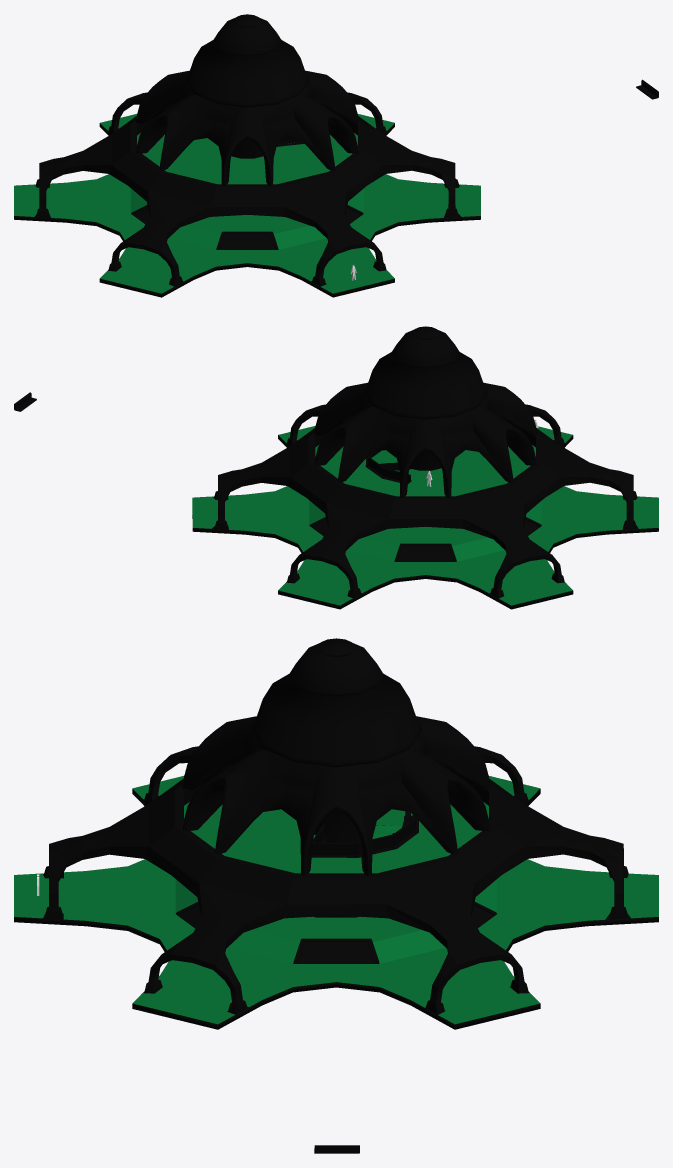
File: tr_agora_collision.max.fobj.obj
3 renders of one model, top to bottom at view 1: azimuth 30°, elevation 25°; view 2: azimuth 150°, elevation 25°; view 3: azimuth 270°, elevation 25°, orthographic. The views are drawn at different scales.
Parts seen in each view (by area): view 1: col_tryk_agora, FBXASC049stFBXASC032floor, top01, arcext10, arcext11, Box02, Box07, arcext12, star, Box06, Box03, arcext15 (+4 smaller); view 2: col_tryk_agora, FBXASC049stFBXASC032floor, top01, arcext14, arcext15, Box05, Box06, arcext10, star, Box07, Box04, arcext13 (+4 smaller); view 3: col_tryk_agora, FBXASC049stFBXASC032floor, top01, arcext12, arcext13, Box04, Box03, arcext14, star, Box02, Box05, arcext11 (+5 smaller).
Part boxes in pixels (x1,y1,x2,y2): col_tryk_agora: [14, 114, 480, 293]; FBXASC049stFBXASC032floor: [109, 116, 385, 216]; top01: [185, 14, 309, 158]; arcext10: [136, 95, 246, 184]; arcext11: [222, 95, 332, 186]; Box02: [284, 191, 386, 286]; Box07: [108, 191, 210, 286]; arcext12: [293, 82, 358, 170]; star: [14, 123, 480, 297]; Box06: [36, 134, 111, 217]; Box03: [383, 134, 458, 217]; arcext15: [136, 70, 194, 123]; col_tryk_agora: [192, 426, 658, 605]; FBXASC049stFBXASC032floor: [287, 428, 563, 528]; top01: [363, 326, 487, 470]; arcext14: [314, 407, 424, 496]; arcext15: [400, 407, 510, 498]; Box05: [287, 503, 389, 598]; Box06: [462, 503, 564, 598]; arcext10: [472, 394, 536, 482]; star: [192, 435, 658, 609]; Box07: [561, 446, 636, 529]; Box04: [214, 446, 289, 529]; arcext13: [314, 382, 373, 435]; col_tryk_agora: [14, 776, 658, 1024]; FBXASC049stFBXASC032floor: [145, 778, 527, 918]; top01: [250, 638, 422, 854]; arcext12: [182, 750, 335, 873]; arcext13: [301, 750, 453, 875]; Box04: [386, 883, 528, 1014]; Box03: [144, 883, 285, 1014]; arcext14: [400, 732, 490, 854]; star: [14, 788, 658, 1029]; Box02: [44, 804, 148, 919]; Box05: [524, 804, 628, 919]; arcext11: [182, 716, 264, 789].
Bounding box in the file's own units: 8264 × 2458 × 5624.
